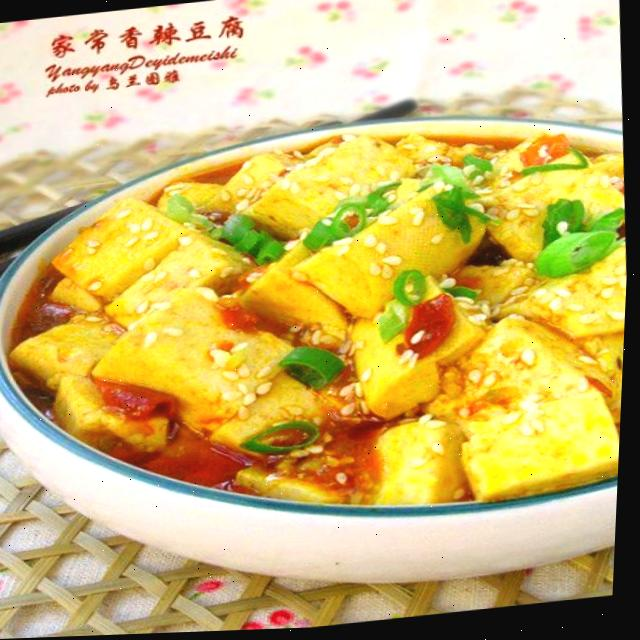豆腐料理: (0, 74, 637, 586)
